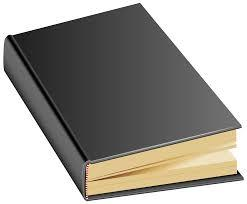book: (5, 3, 242, 200)
